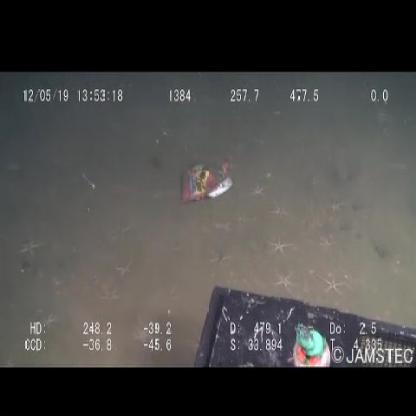Rov: (187, 282, 416, 369)
Rác: (178, 154, 235, 204)
